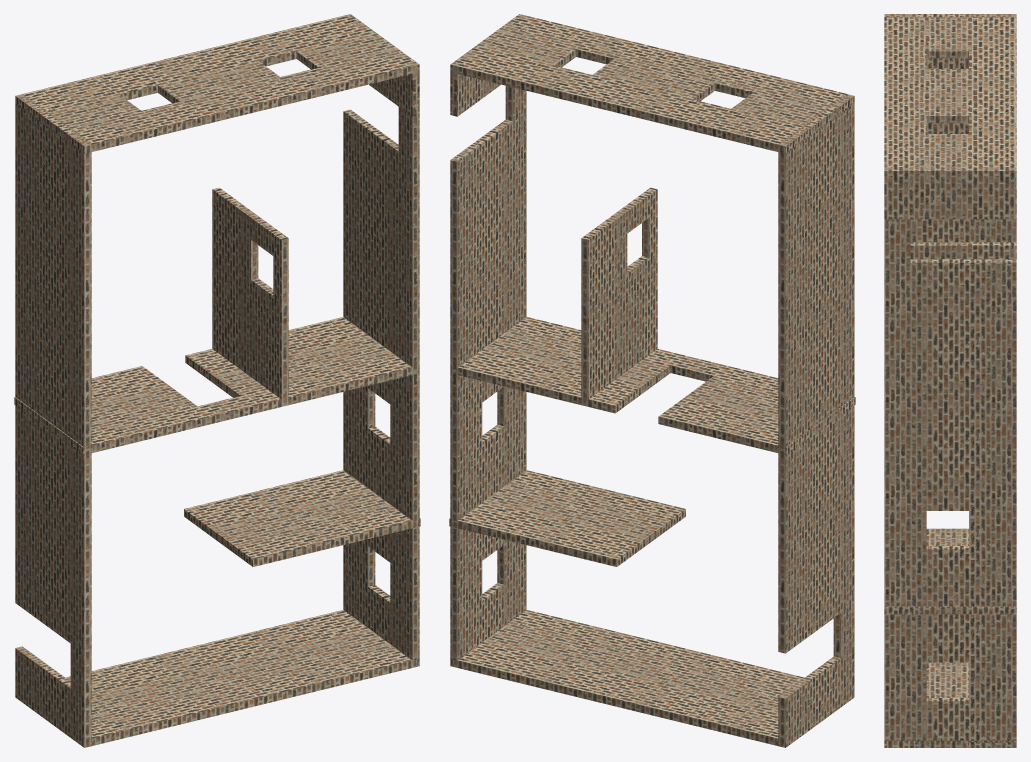
File: ff_wall.obj
3 views of the same model, side by side, from view 1: azimuth 30°, elevation 25°; view 2: azimuth 150°, elevation 25°; view 3: azimuth 270°, elevation 25° (orthographic). The views are drawn at different scales.
Parts seen in each view (by area): view 1: ff_wall.021_brick_wall_02, ff_wall.014_brick_wall_02, ff_wall.005_brick_wall_02, ff_wall.019_brick_wall_02, ff_wall.011_brick_wall_02, ff_wall.008_brick_wall_02, ff_wall.022_brick_wall_02, ff_wall.023_brick_wall_02, ff_wall.003_brick_wall_02, ff_wall.012_brick_wall_02, ff_wall.015_brick_wall_02, ff_wall.002_brick_wall_02 (+1 smaller); view 2: ff_wall.021_brick_wall_02, ff_wall.014_brick_wall_02, ff_wall.005_brick_wall_02, ff_wall.019_brick_wall_02, ff_wall.011_brick_wall_02, ff_wall.008_brick_wall_02, ff_wall.022_brick_wall_02, ff_wall.023_brick_wall_02, ff_wall.003_brick_wall_02, ff_wall.012_brick_wall_02, ff_wall.002_brick_wall_02, ff_wall.025_brick_wall_02 (+1 smaller); view 3: ff_wall.014_brick_wall_02, ff_wall.005_brick_wall_02, ff_wall.012_brick_wall_02, ff_wall.021_brick_wall_02, ff_wall.019_brick_wall_02, ff_wall.011_brick_wall_02, ff_wall.008_brick_wall_02, ff_wall.015_brick_wall_02.
Boxes of the visible parts, x1,y1,x2,y2 form: ff_wall.021_brick_wall_02: [15, 94, 91, 653]; ff_wall.014_brick_wall_02: [343, 109, 419, 667]; ff_wall.005_brick_wall_02: [15, 14, 419, 153]; ff_wall.019_brick_wall_02: [65, 610, 419, 745]; ff_wall.011_brick_wall_02: [184, 470, 420, 566]; ff_wall.008_brick_wall_02: [212, 187, 288, 401]; ff_wall.022_brick_wall_02: [185, 317, 418, 413]; ff_wall.023_brick_wall_02: [14, 366, 211, 455]; ff_wall.003_brick_wall_02: [15, 646, 91, 747]; ff_wall.012_brick_wall_02: [369, 66, 419, 116]; ff_wall.015_brick_wall_02: [398, 107, 419, 161]; ff_wall.002_brick_wall_02: [70, 644, 91, 698]; ff_wall.021_brick_wall_02: [778, 94, 854, 653]; ff_wall.014_brick_wall_02: [450, 111, 526, 667]; ff_wall.005_brick_wall_02: [450, 14, 854, 153]; ff_wall.019_brick_wall_02: [450, 610, 804, 747]; ff_wall.011_brick_wall_02: [449, 470, 685, 566]; ff_wall.008_brick_wall_02: [581, 187, 657, 402]; ff_wall.022_brick_wall_02: [451, 317, 683, 413]; ff_wall.023_brick_wall_02: [658, 366, 855, 455]; ff_wall.003_brick_wall_02: [778, 648, 854, 747]; ff_wall.012_brick_wall_02: [450, 65, 500, 116]; ff_wall.002_brick_wall_02: [833, 603, 854, 657]; ff_wall.025_brick_wall_02: [670, 355, 726, 381]; ff_wall.014_brick_wall_02: [884, 259, 1016, 747]; ff_wall.005_brick_wall_02: [884, 17, 1016, 178]; ff_wall.012_brick_wall_02: [884, 171, 1016, 219]; ff_wall.021_brick_wall_02: [884, 14, 1016, 242]; ff_wall.019_brick_wall_02: [884, 662, 1016, 747]; ff_wall.011_brick_wall_02: [884, 528, 1016, 614]; ff_wall.008_brick_wall_02: [910, 242, 1016, 259]; ff_wall.015_brick_wall_02: [884, 219, 910, 262].
Bounding box in the file's own units: 7.04 × 12 × 2.5.
Materials: 1 (1 with a texture image).
